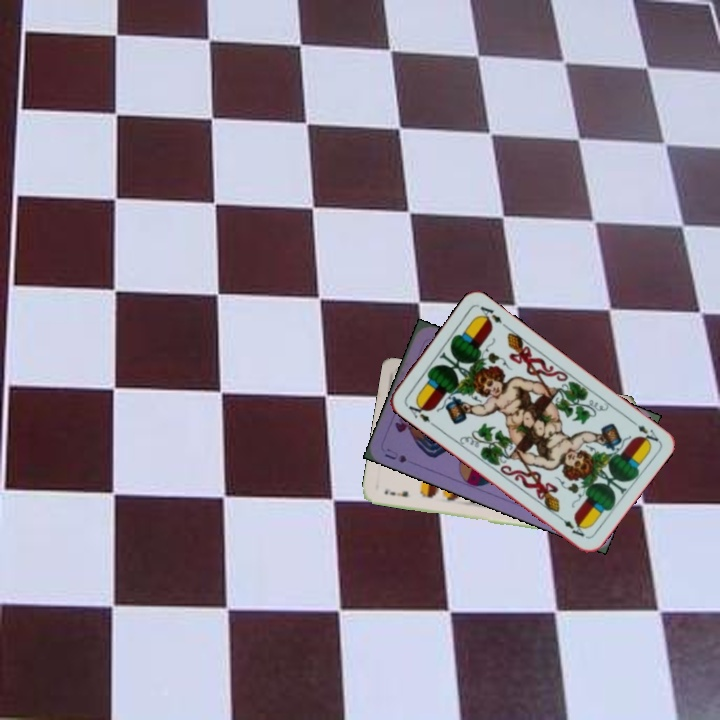E7: (380, 484, 411, 499)
EA: (626, 415, 661, 447), (402, 398, 437, 429)
SU: (381, 444, 410, 465)
